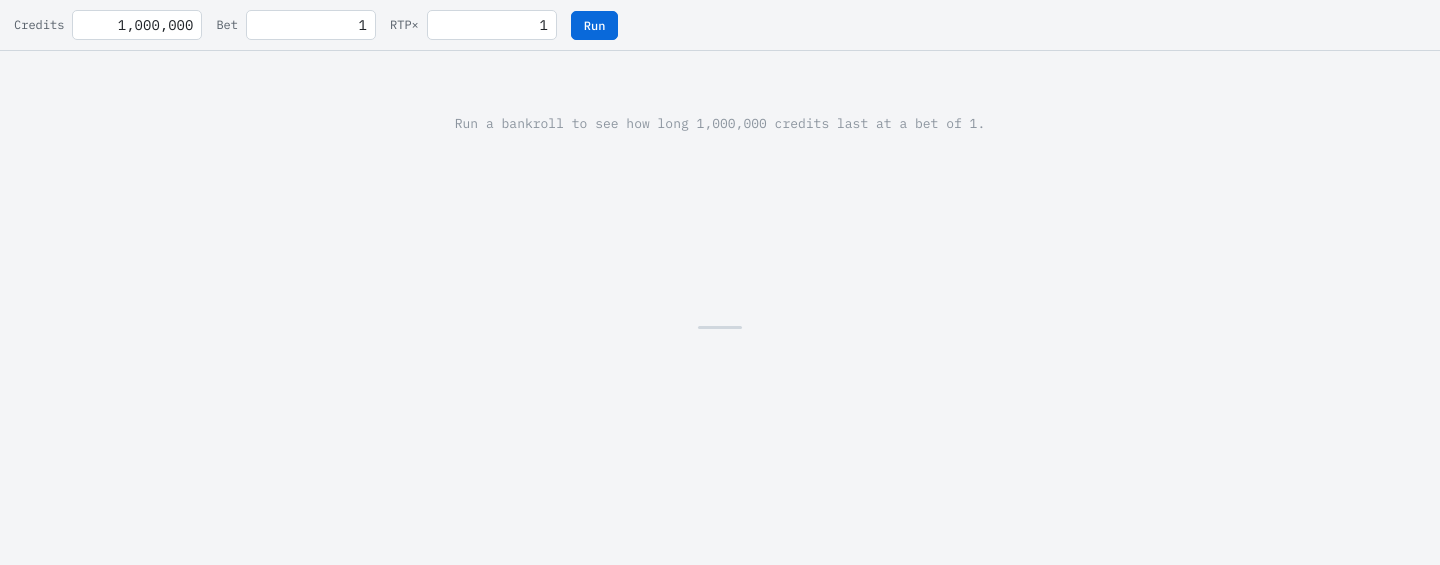
Test: BankrollSim runs › streams the balance and the stat tiles
This screenshot has width=1440, height=565.
Step 1. Click the button "Run" → [595, 25], box x1=571 y1=10 x2=618 y2=40
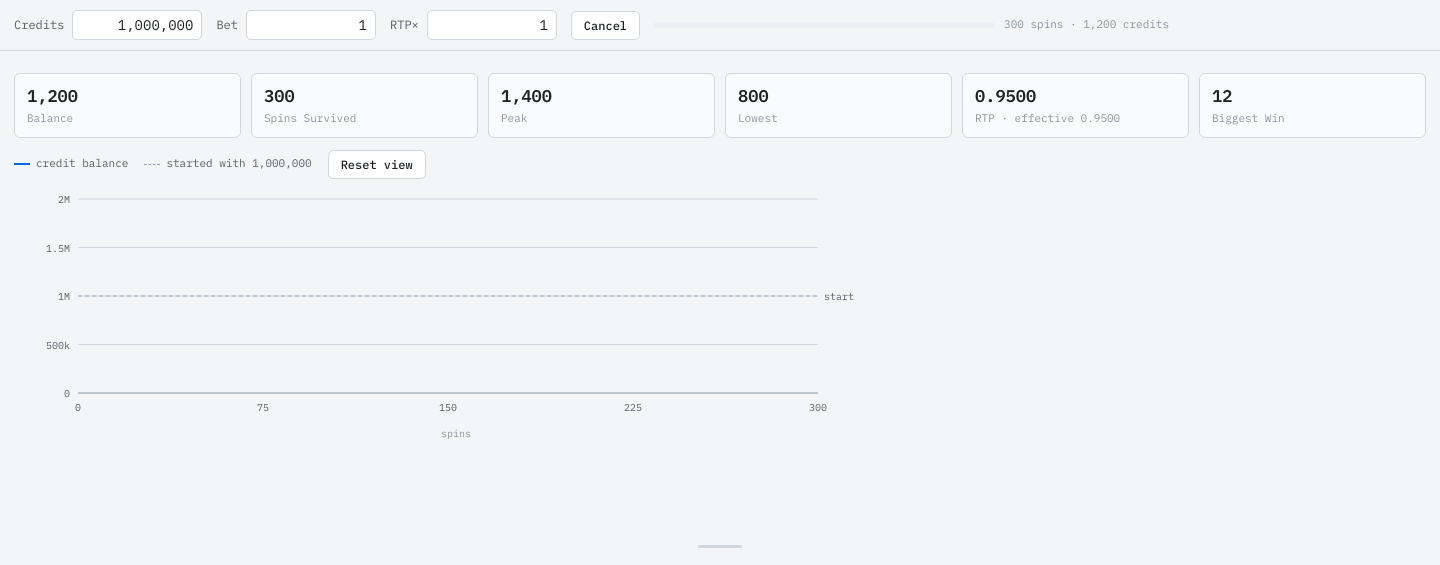
Expected: the text "1,200" is shown, x1=27 y1=85 x2=78 y2=107
Expected: the text "1,400" is shown, x1=501 y1=85 x2=552 y2=107
Expected: the text "800" is shown, x1=738 y1=85 x2=769 y2=107
